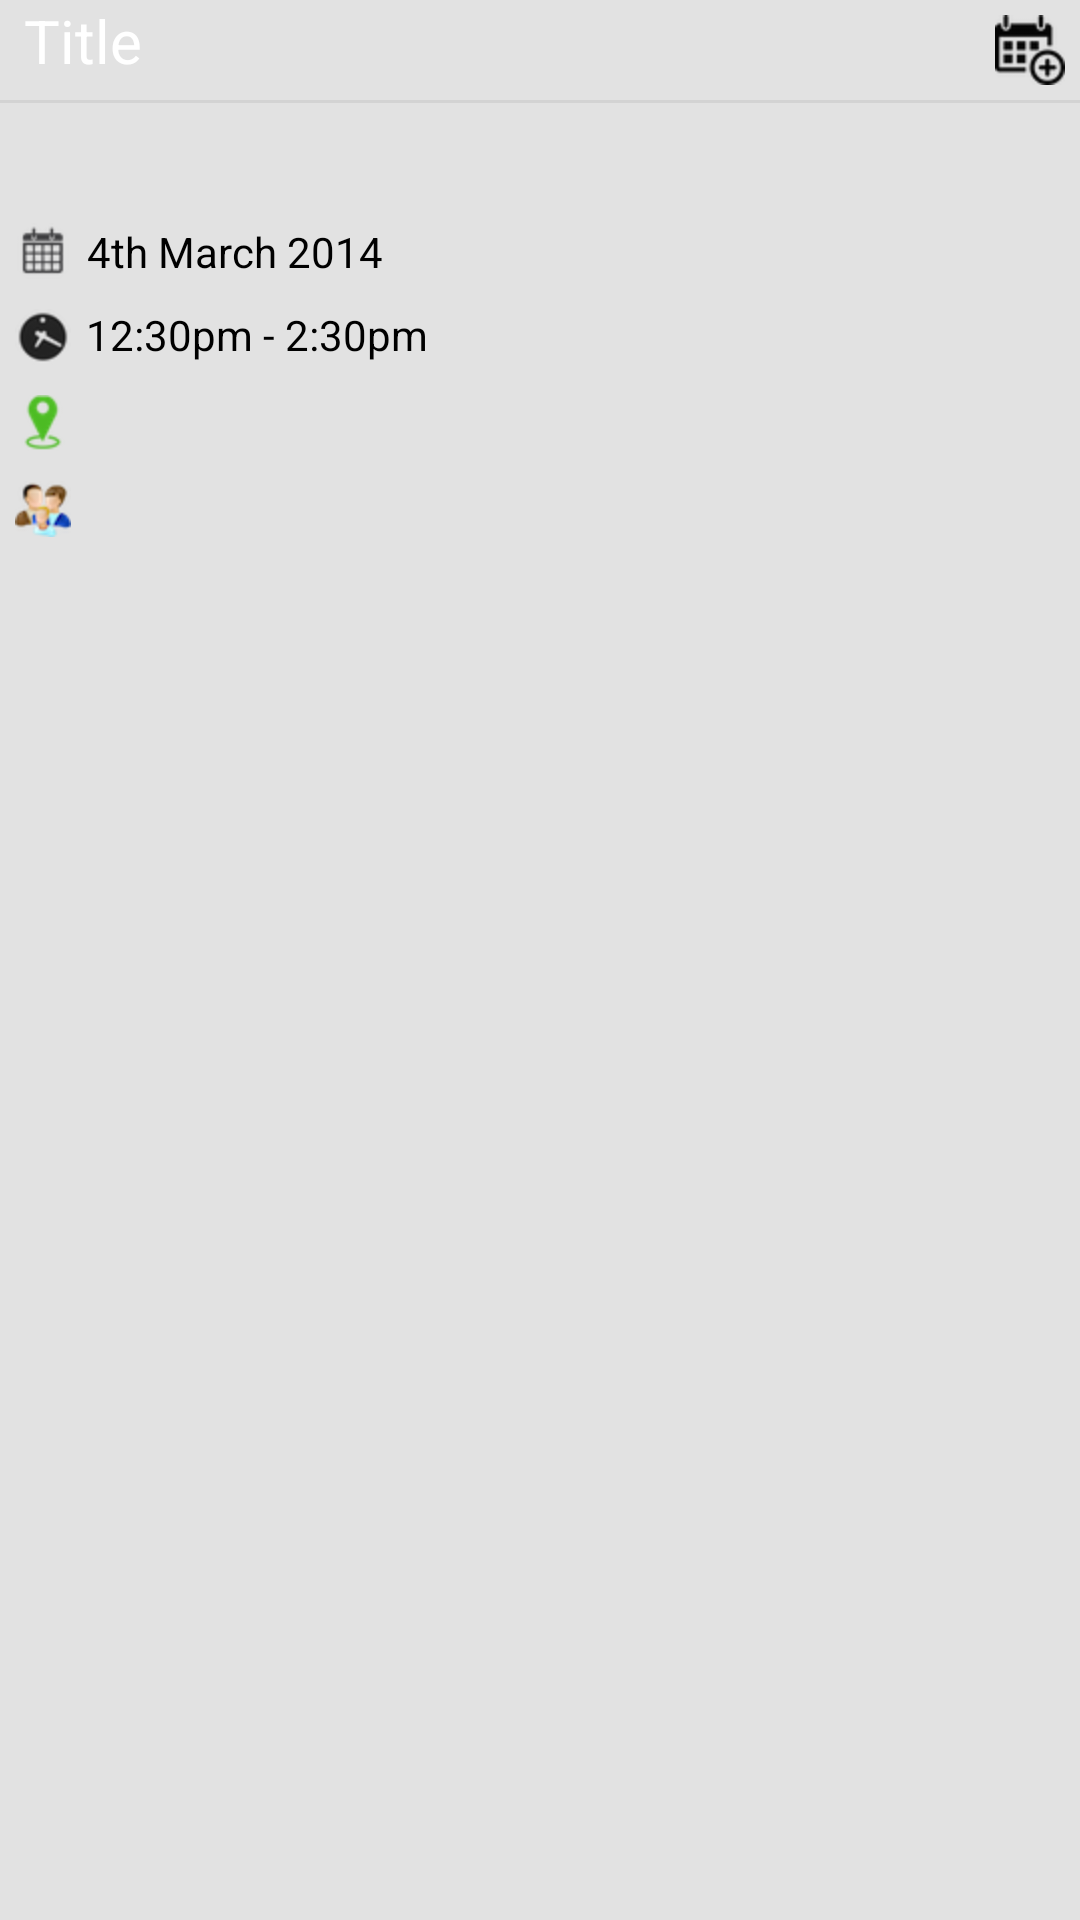

Screen size 1080px x 1920px. Icon name, then its box in pixels as (x1, y1, x2, y2):
clock: (18, 312, 68, 362)
date event: (995, 15, 1065, 85), (22, 227, 64, 274)
location: (25, 395, 61, 450)
majlis: (15, 483, 71, 537)
